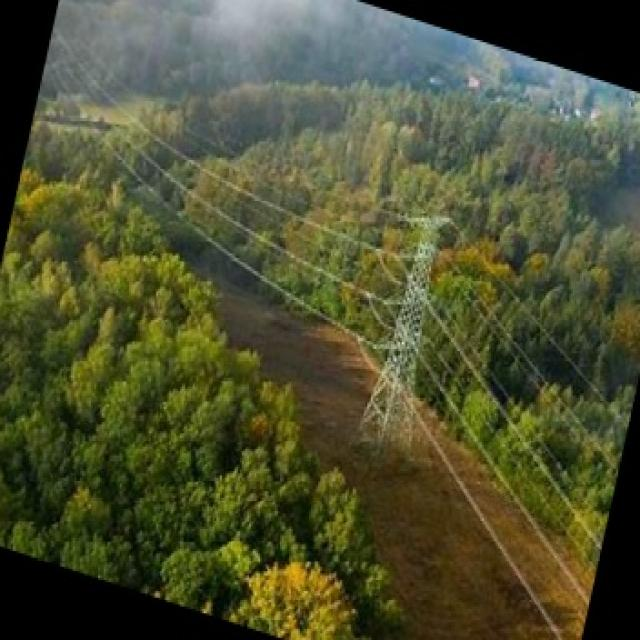utility poles: (361, 172, 456, 490)
